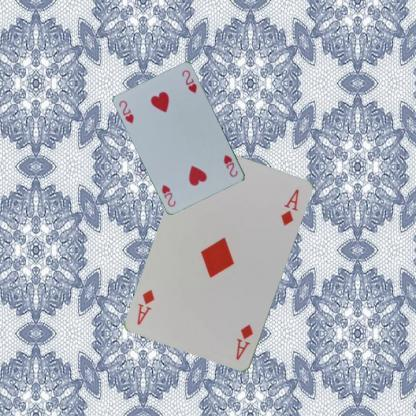2h: (116, 98, 135, 124), (221, 152, 239, 178)
Ad: (233, 322, 255, 362)
